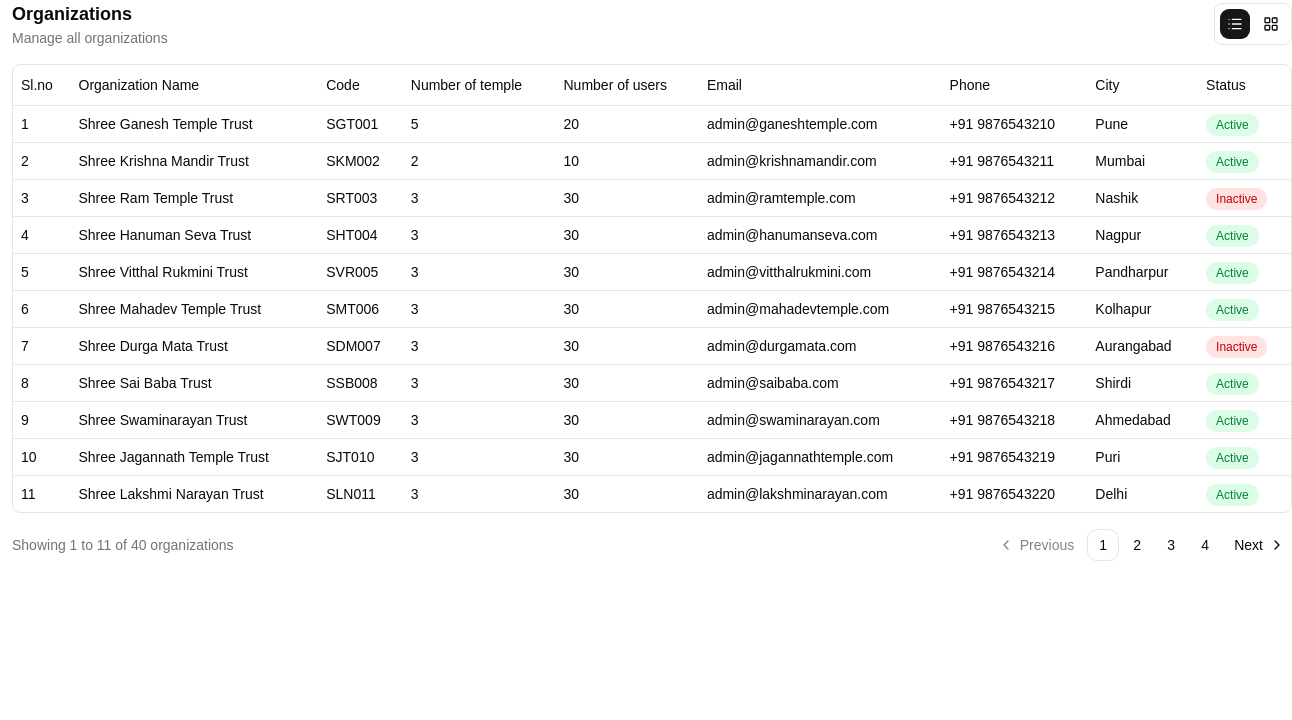
Scenario: OrganizationsTable › changes to the previous page
Click the button with aria-label "Go to next page": x=1260, y=544 [1234,536,1285,552]
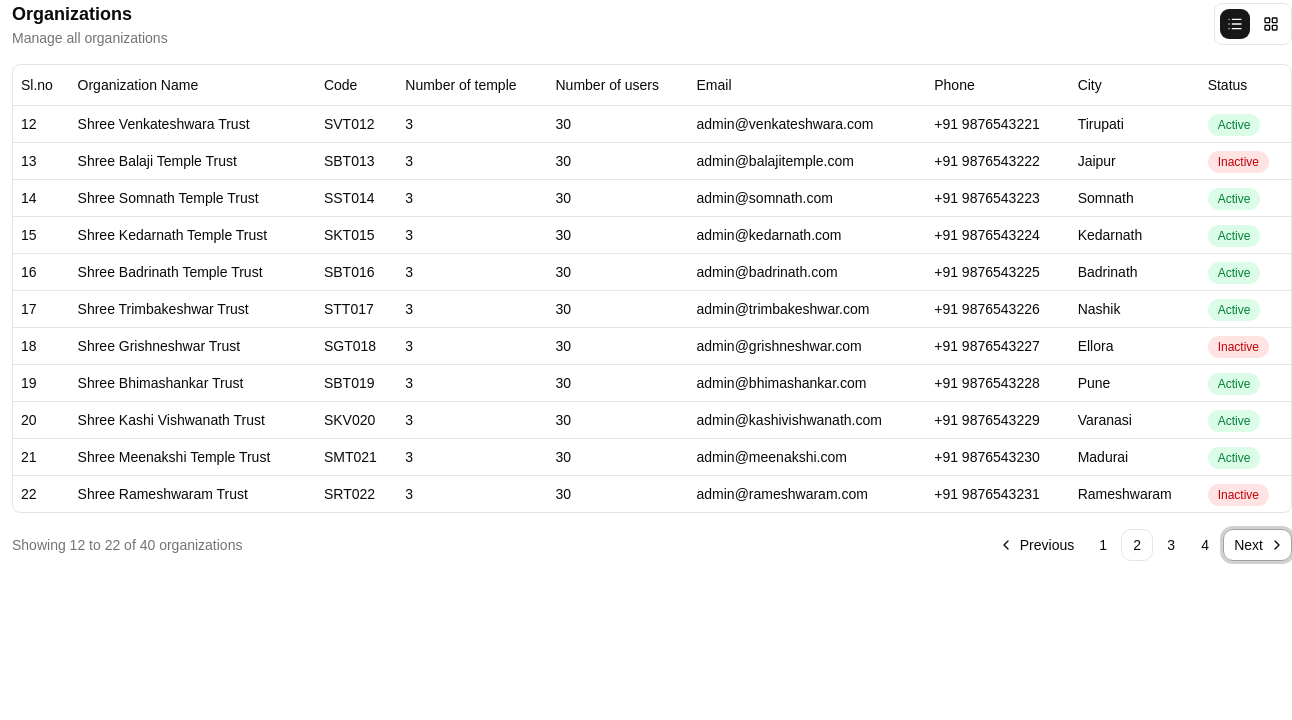
Check: the text "Showing 12 to 22 of 40 organizations" is shown, box [12,534,242,554]
Click the button with aria-label "Go to previous page": x=1036, y=544 [998,536,1074,552]
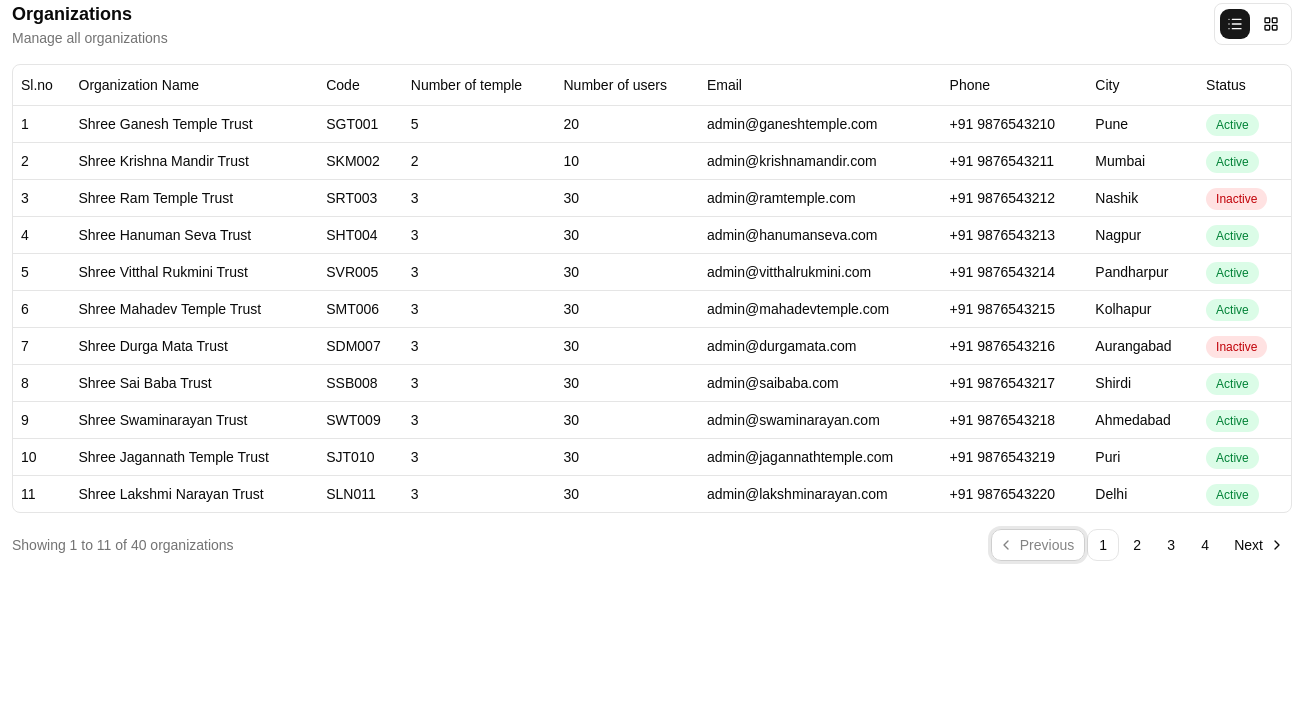
Check: the text "Showing 1 to 11 of 40 organizations" is shown, box [12,534,234,554]
Check: the text "Shree Ganesh Temple Trust" is shown, box [70,105,318,142]
